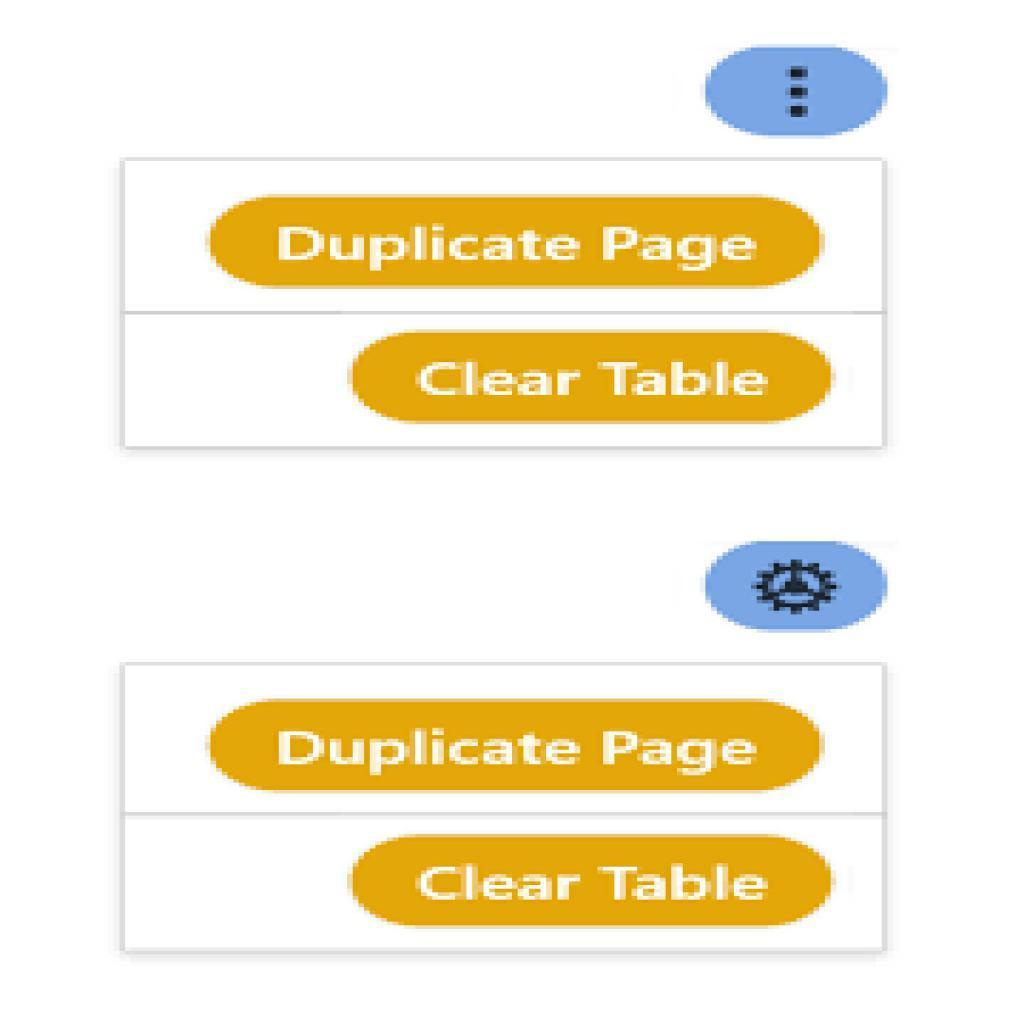button: (212, 695, 825, 798), (212, 195, 826, 290), (347, 827, 837, 930), (343, 331, 838, 427)
icon: (753, 551, 845, 626), (779, 54, 825, 129)
